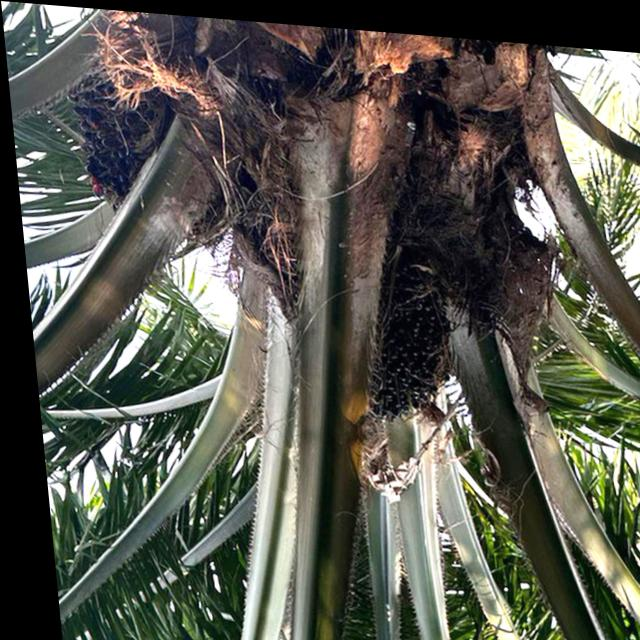ripe: (352, 281, 449, 422)
